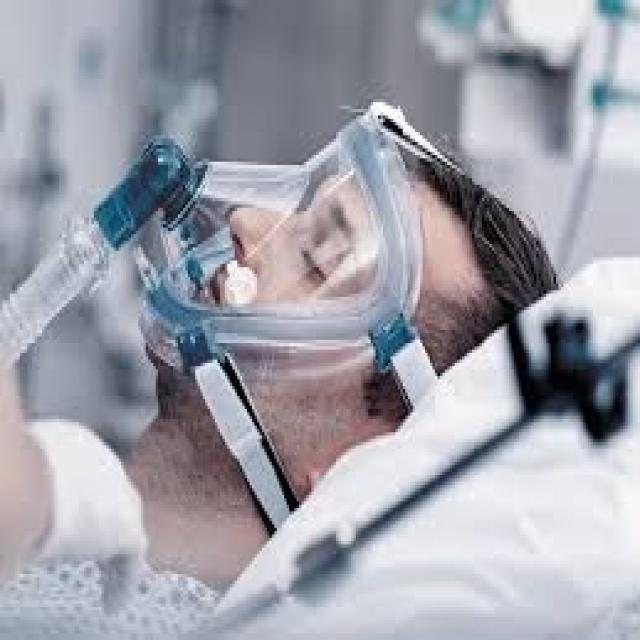oxygen_mask: (84, 141, 443, 401)
